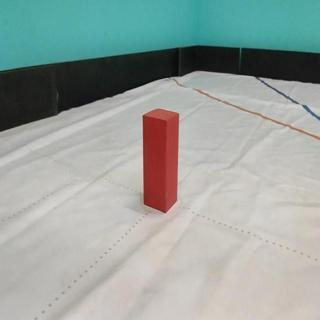redbox: (141, 107, 180, 215)
